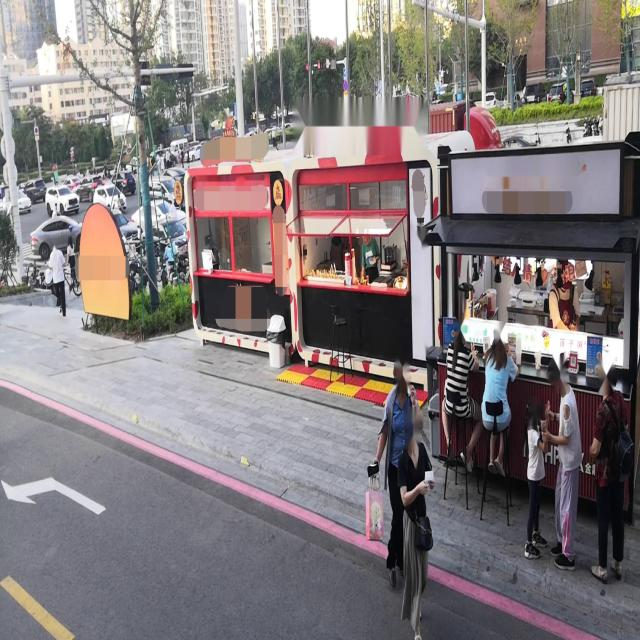fixed_stall: (451, 135, 635, 393), (294, 92, 421, 298), (194, 140, 274, 280)
